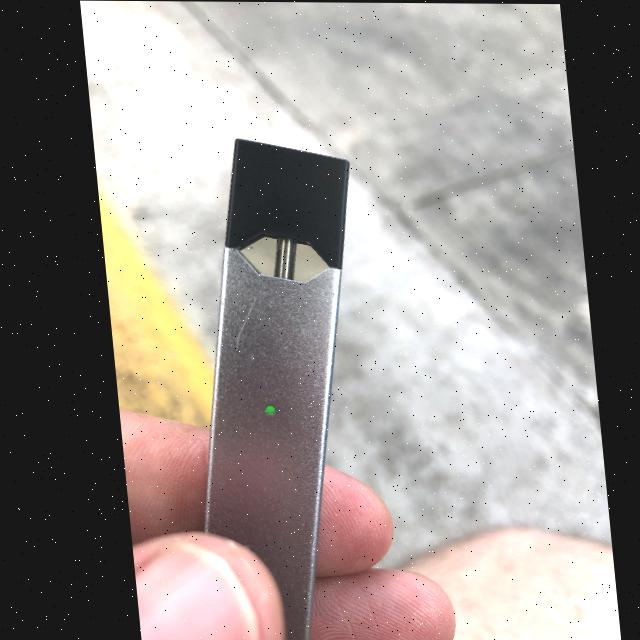vape: (162, 135, 385, 640)
